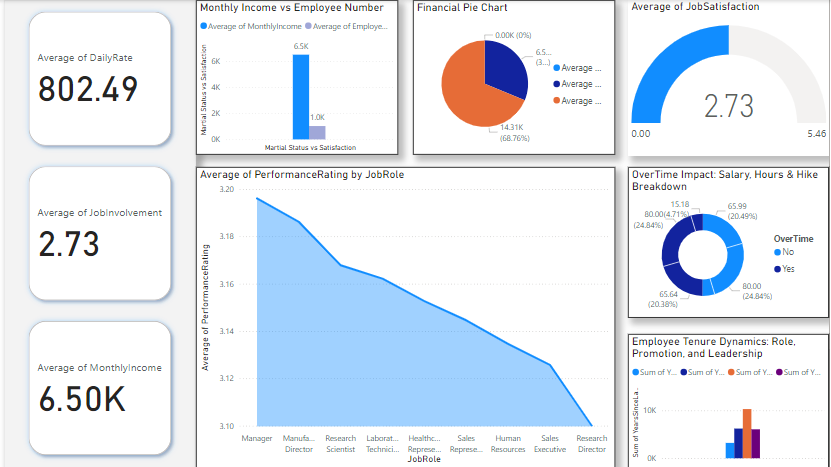

Layout of this report page (visuals, bound fields, positions):
{"tool":"powerbi","page":{"name":"Page 2","canvas":[1280,720],"ordinal":1},"visuals":[{"type":"cardVisual","fields":{"Data":["Avg(HR-Employee-Attrition.DailyRate)","Avg(HR-Employee-Attrition.JobInvolvement)","Avg(HR-Employee-Attrition.MonthlyIncome)"]},"box":[10.8,0,295.4,720],"z":0},{"type":"clusteredColumnChart","title":"Monthly Income vs Employee Number","fields":{"Y":["Avg(HR-Employee-Attrition.MonthlyIncome)","Avg(HR-Employee-Attrition.EmployeeNumber)"]},"box":[306.2,0,310.8,238.5],"z":1000},{"type":"pieChart","title":"Financial Pie Chart","fields":{"Y":["Avg(HR-Employee-Attrition.StockOptionLevel)","Avg(HR-Employee-Attrition.MonthlyIncome)","Avg(HR-Employee-Attrition.MonthlyRate)"]},"box":[640,0,310.8,238.5],"z":1001},{"type":"gauge","fields":{"Y":["Avg(HR-Employee-Attrition.JobSatisfaction)"]},"box":[970.2,0,310.2,240],"z":1002},{"type":"stackedAreaChart","fields":{"Y":["Avg(HR-Employee-Attrition.PerformanceRating)"],"Category":["HR-Employee-Attrition.JobRole"]},"box":[306.2,256.9,644.6,463.1],"z":1003},{"type":"donutChart","title":"OverTime Impact: Salary, Hours & Hike Breakdown","fields":{"Y":["Avg(HR-Employee-Attrition.HourlyRate)","Avg(HR-Employee-Attrition.StandardHours)","Avg(HR-Employee-Attrition.PercentSalaryHike)"],"Category":["HR-Employee-Attrition.OverTime"]},"box":[970.8,256.9,309.2,232.3],"z":1004},{"type":"clusteredColumnChart","title":"Employee Tenure Dynamics: Role, Promotion, and Leadership","fields":{"Y":["Sum(HR-Employee-Attrition.YearsSinceLastPromotion)","Sum(HR-Employee-Attrition.YearsInCurrentRole)","Sum(HR-Employee-Attrition.YearsAtCompany)","Sum(HR-Employee-Attrition.YearsWithCurrManager)"]},"box":[970.8,513.8,309.2,206.2],"z":1005}]}

Visuals, with their boxes in screenshot pixels (x1, y1, x2, y2), scaled from the page's 1280x720 canvas onto the 831x467 screenshot:
cardVisual - Avg(HR-Employee-Attrition.DailyRate) x Avg(HR-Employee-Attrition.JobInvolvement): left=7, top=0, right=199, bottom=466
"Monthly Income vs Employee Number" clusteredColumnChart: left=199, top=0, right=401, bottom=155
"Financial Pie Chart" pieChart: left=416, top=0, right=617, bottom=155
gauge - Avg(HR-Employee-Attrition.JobSatisfaction): left=630, top=0, right=830, bottom=156
stackedAreaChart - Avg(HR-Employee-Attrition.PerformanceRating) x HR-Employee-Attrition.JobRole: left=199, top=167, right=617, bottom=466
"OverTime Impact: Salary, Hours & Hike Breakdown" donutChart: left=630, top=167, right=830, bottom=317
"Employee Tenure Dynamics: Role, Promotion, and Leadership" clusteredColumnChart: left=630, top=333, right=830, bottom=466
